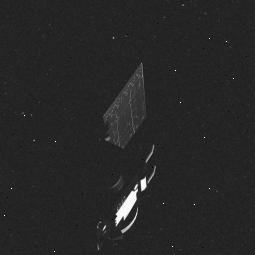proba_3_csc: (63, 48, 174, 255)
